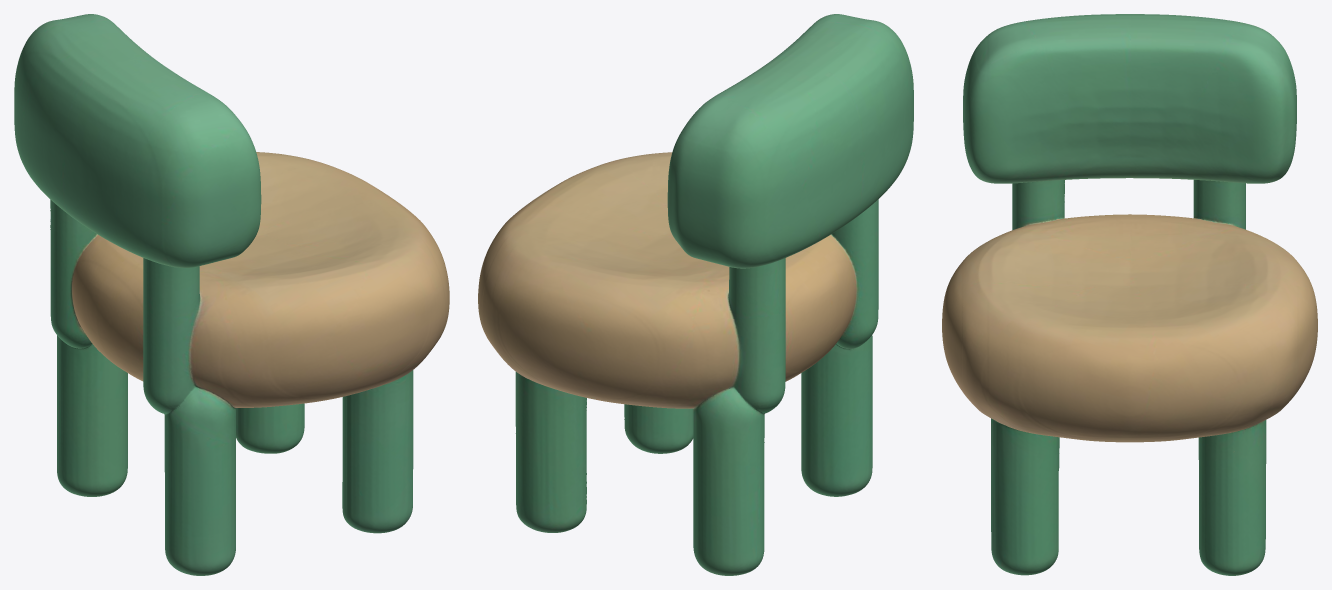
The model's file is StoolMint.glb.
3 views of the same model, side by side, from view 1: azimuth 30°, elevation 25°; view 2: azimuth 150°, elevation 25°; view 3: azimuth 270°, elevation 25° (orthographic). The views are drawn at different scales.
Parts seen in each view (by area): view 1: tripo_node_a5f09a5c-947f-42f7-ab39-8ce4a8508b07; view 2: tripo_node_a5f09a5c-947f-42f7-ab39-8ce4a8508b07; view 3: tripo_node_a5f09a5c-947f-42f7-ab39-8ce4a8508b07.
Boxes of the visible parts, x1,y1,x2,y2 form: tripo_node_a5f09a5c-947f-42f7-ab39-8ce4a8508b07: (14, 14, 449, 575); tripo_node_a5f09a5c-947f-42f7-ab39-8ce4a8508b07: (478, 14, 913, 575); tripo_node_a5f09a5c-947f-42f7-ab39-8ce4a8508b07: (942, 14, 1317, 575).
Bounding box in the file's own units: 0.7759 × 1 × 0.7512.
1 material, 1 textured.
